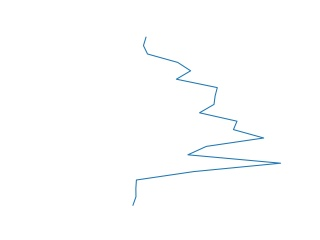floodSwamp: (129, 35, 284, 209)
